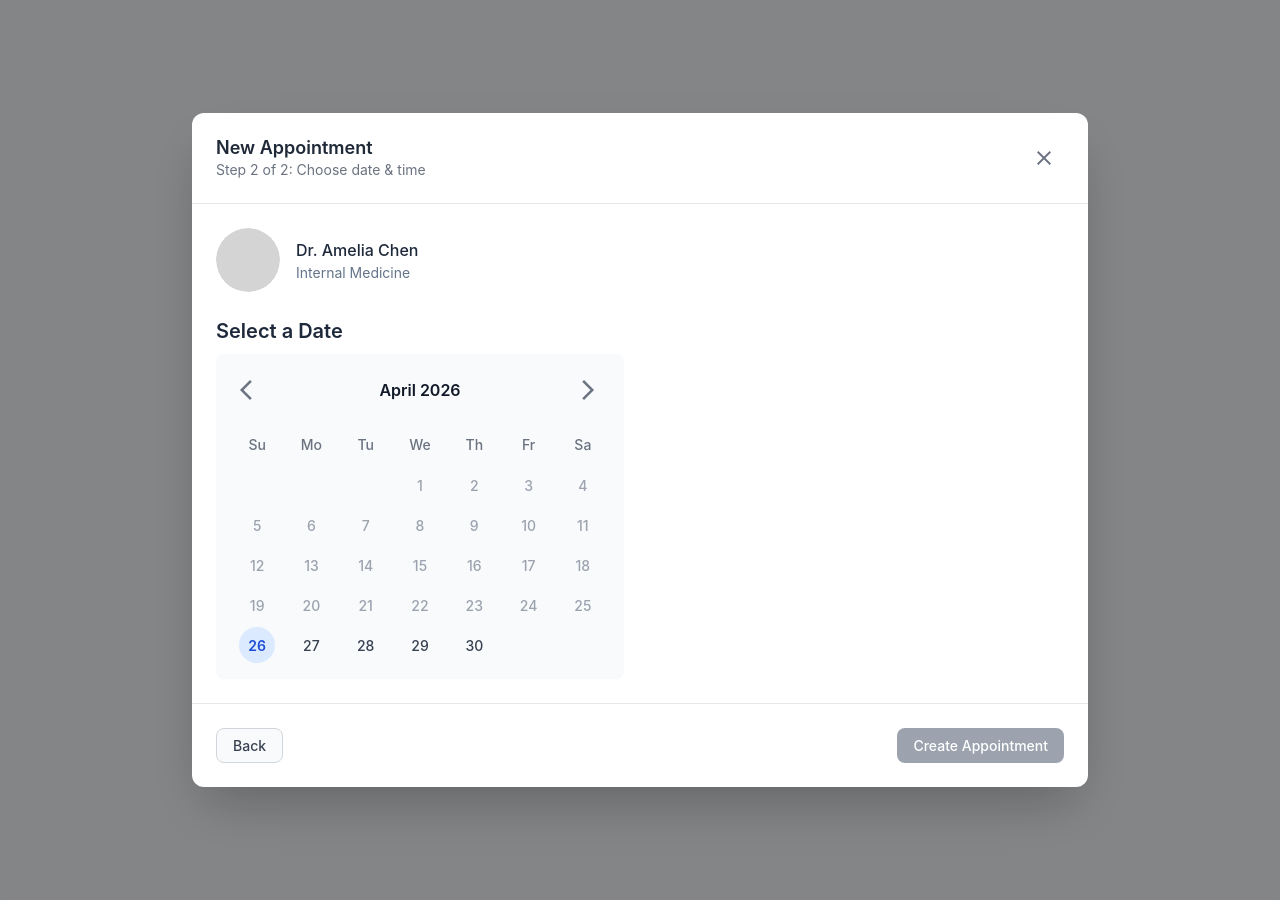
Booking Flow Integration › should handle booking errors
The width and height of the screenshot is (1280, 900).
Note: Select tomorrow's date (27th) which should be available
Click the button "27" at (311, 645), box 293,627 -> 329,663
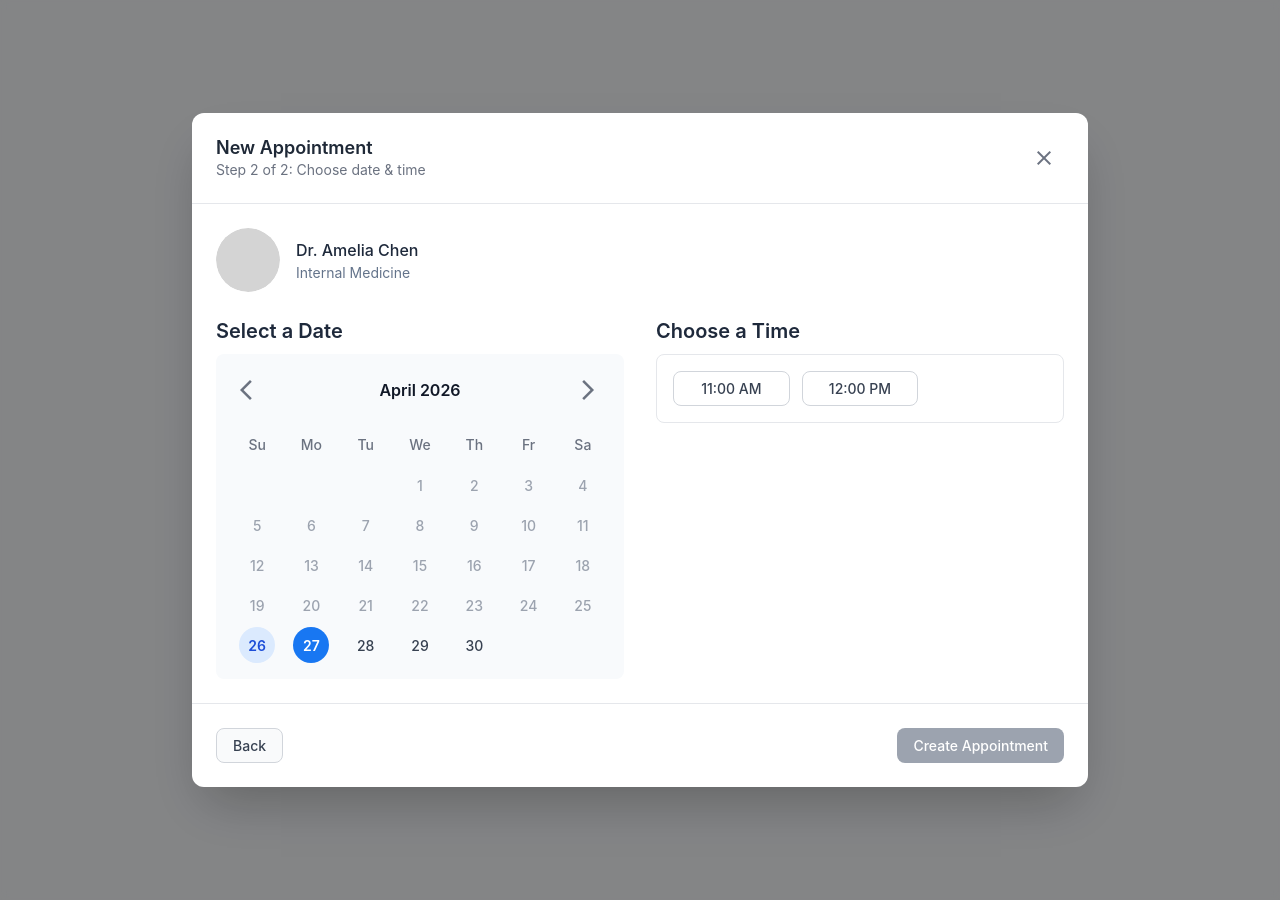
Click the button "11:00 AM" at (731, 389), box 673,371 -> 790,406
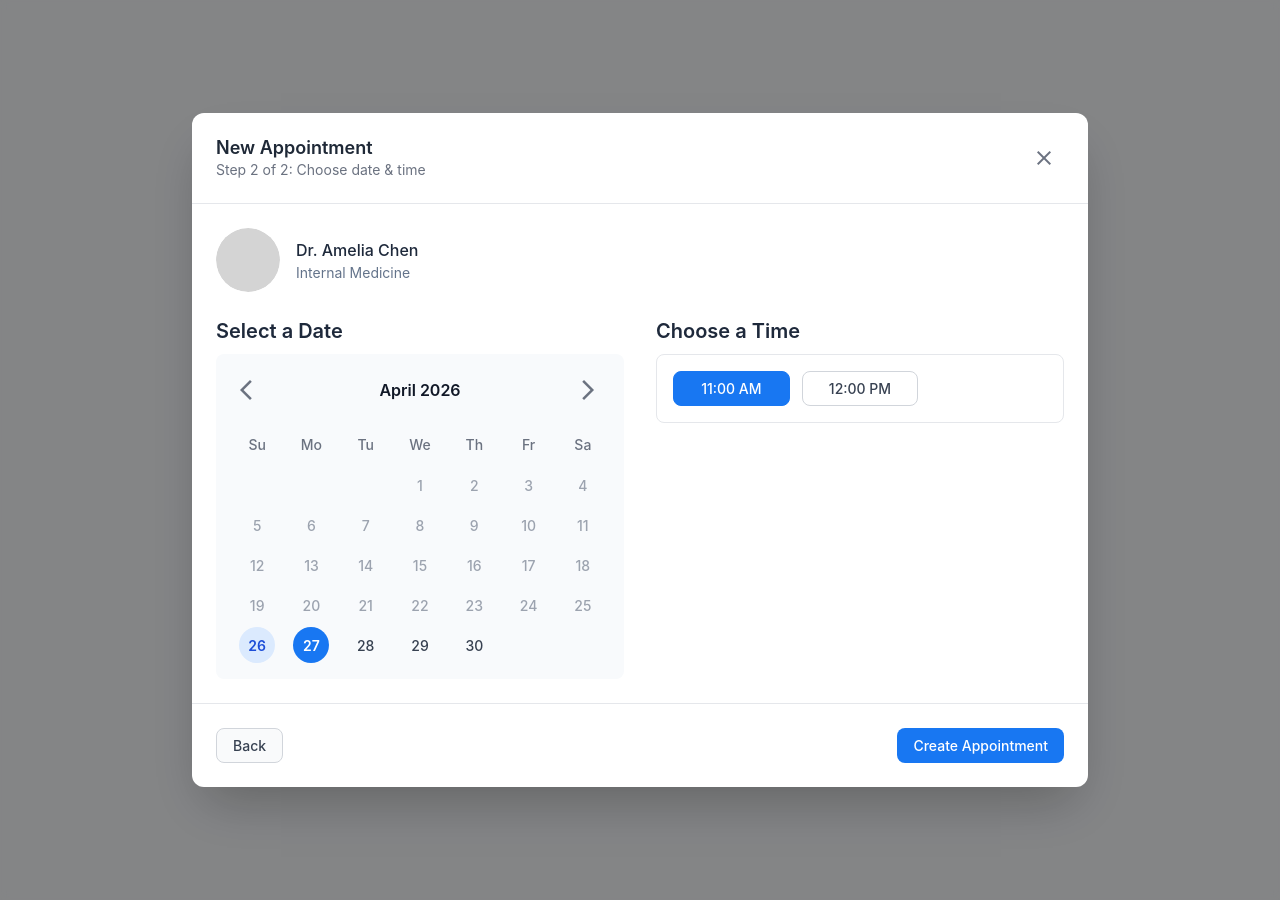
Note: Click confirm button
Click the button "Create Appointment" at (981, 746), box 897,728 -> 1064,763
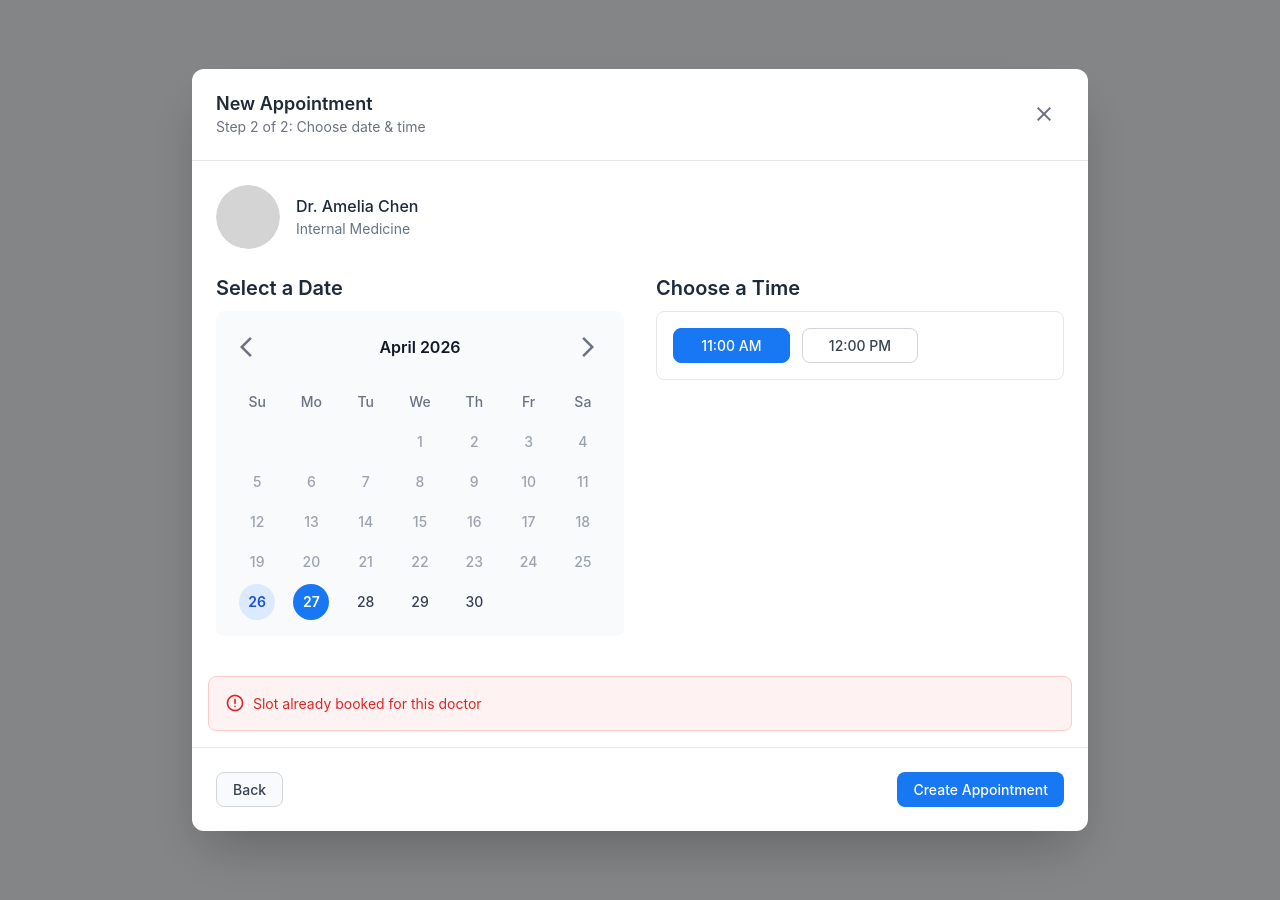
expect the text "Slot already booked for this doctor" is shown: met, box 208,676 -> 1072,731
